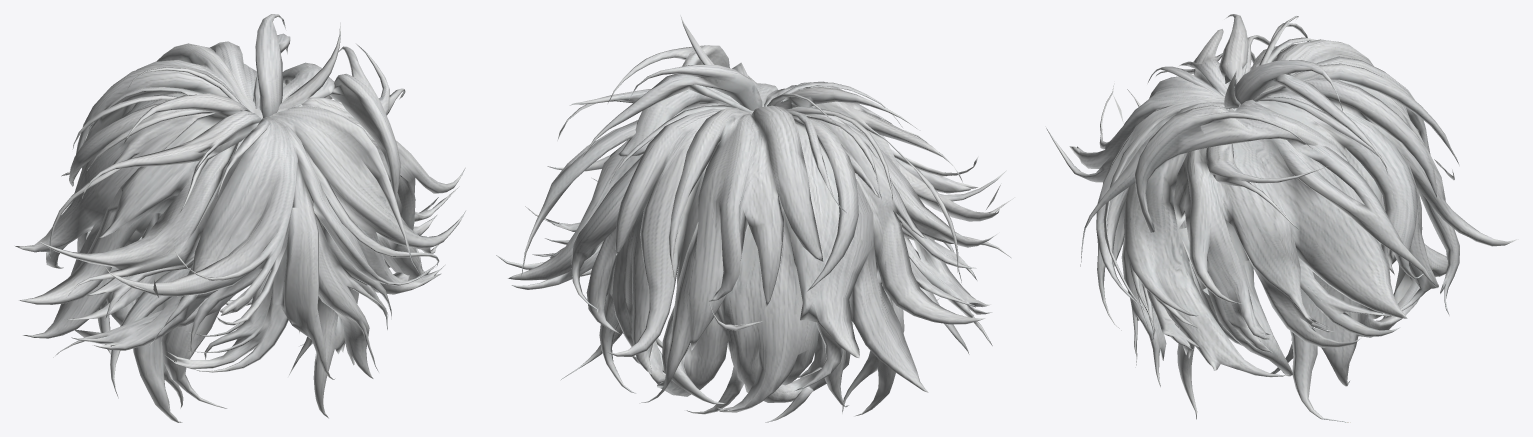
Rendered from hair-3.glb.
3 views of the same model, side by side, from view 1: azimuth 30°, elevation 25°; view 2: azimuth 150°, elevation 25°; view 3: azimuth 270°, elevation 25° (orthographic). The views are drawn at different scales.
Size of the model in its own units: 0.9507 by 0.7637 by 0.8848.
Materials: 1 (1 with a texture image).
